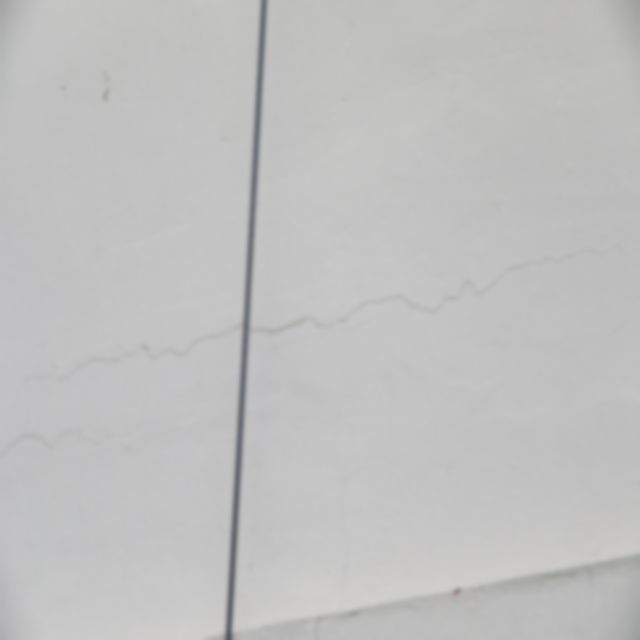SurfaceCrack: (249, 211, 639, 355)
